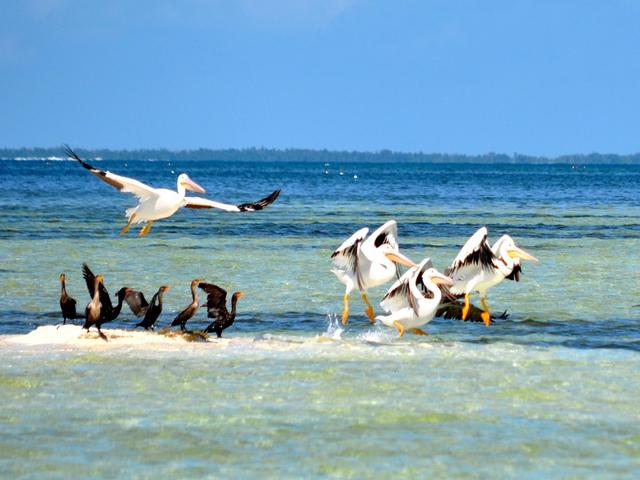bird: (13, 151, 300, 254), (322, 216, 437, 315)
